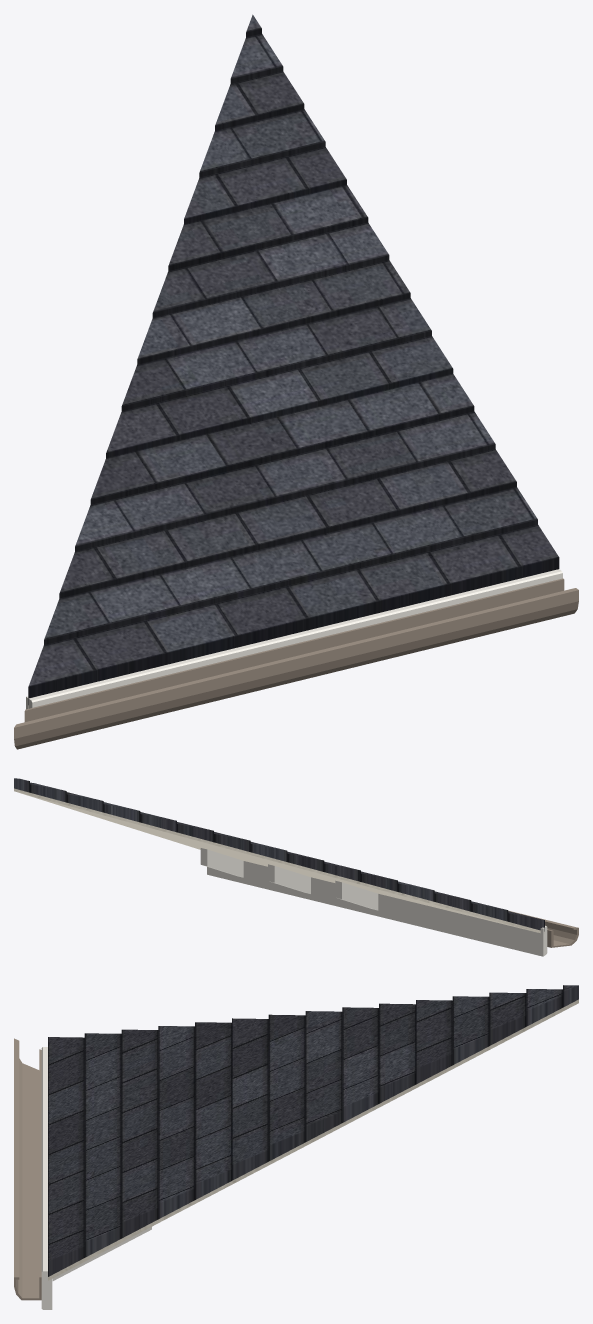
File: roof_hip_5_l.glb
The picture shows the model from 3 angles, top to bottom: view 1: azimuth 30°, elevation 25°; view 2: azimuth 150°, elevation 25°; view 3: azimuth 270°, elevation 25°; orthographic projection. The views are drawn at different scales.
Parts seen in each view (by area): view 1: roof_hip_5_l_shingles, roof_hip_5_l_gutter, roof_hip_5_l_trim; view 2: roof_hip_5_l_trim, roof_hip_5_l_shingles, roof_hip_5_l_plaster, roof_hip_5_l_gutter; view 3: roof_hip_5_l_shingles, roof_hip_5_l_gutter, roof_hip_5_l_plaster, roof_hip_5_l_trim.
Boxes of the visible parts, x1=… form: roof_hip_5_l_shingles: x1=28, y1=14, x2=559, y2=704; roof_hip_5_l_gutter: x1=14, y1=578, x2=578, y2=749; roof_hip_5_l_trim: x1=26, y1=569, x2=562, y2=709; roof_hip_5_l_trim: x1=200, y1=848, x2=547, y2=956; roof_hip_5_l_shingles: x1=14, y1=778, x2=544, y2=931; roof_hip_5_l_plaster: x1=14, y1=788, x2=544, y2=933; roof_hip_5_l_gutter: x1=508, y1=910, x2=578, y2=947; roof_hip_5_l_shingles: x1=48, y1=985, x2=578, y2=1276; roof_hip_5_l_gutter: x1=14, y1=1038, x2=41, y2=1300; roof_hip_5_l_plaster: x1=48, y1=999, x2=578, y2=1280; roof_hip_5_l_trim: x1=41, y1=1047, x2=151, y2=1309.
Bounding box in the file's own units: 2.66 × 1.69 × 2.66.
Materials: 4 (2 with a texture image).
